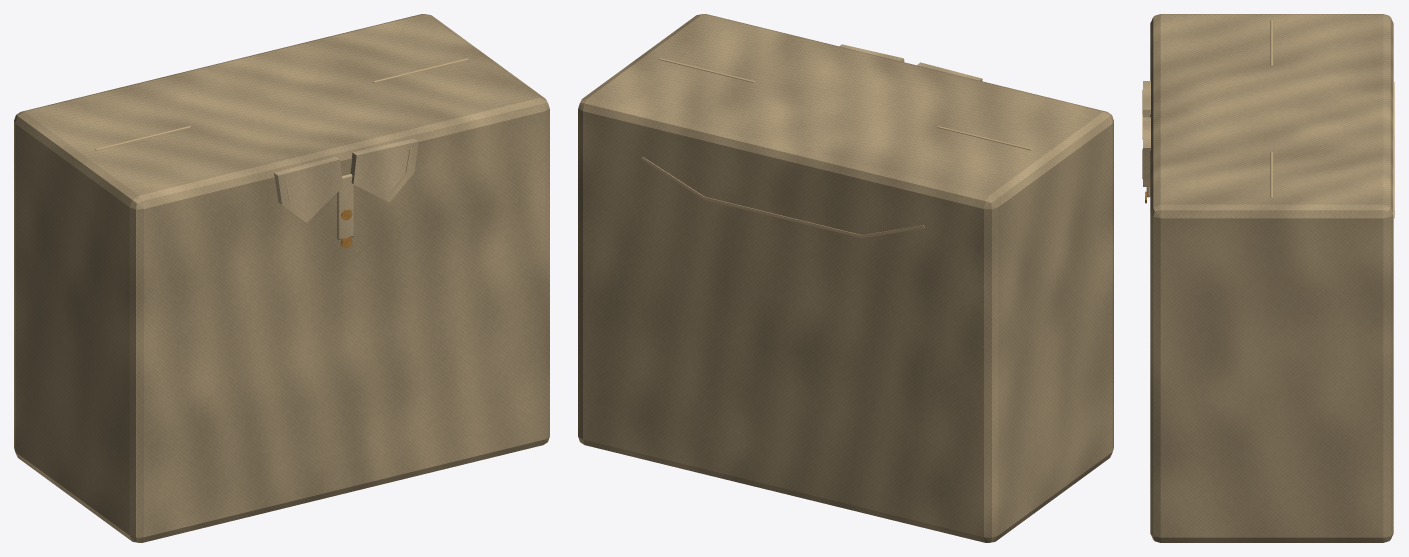
Rendered from 04_Torse_Lin.fbx.
3 renders of one model, left to right at view 1: azimuth 30°, elevation 25°; view 2: azimuth 150°, elevation 25°; view 3: azimuth 270°, elevation 25°, orthographic. The views are drawn at different scales.
Visible parts, largest first — view 1: 04_Torse_Lin; view 2: 04_Torse_Lin; view 3: 04_Torse_Lin.
Boxes of the visible parts, x1,y1,x2,y2 form: 04_Torse_Lin: (14,14,549,542); 04_Torse_Lin: (578,14,1113,542); 04_Torse_Lin: (1142,14,1394,542).
Size of the model in its own units: 2.03 by 1.61 by 1.09.
Materials: 1 (1 with a texture image).
